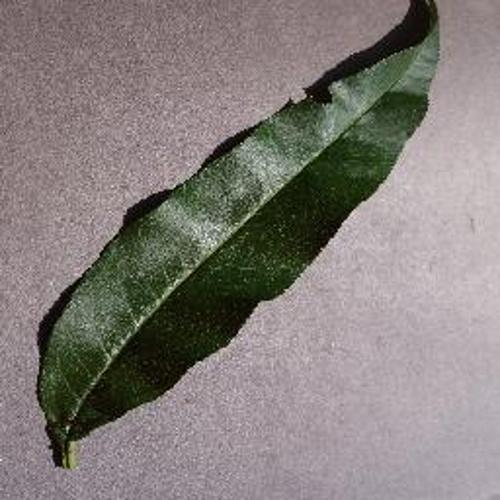Peach: (42, 0, 440, 469)
